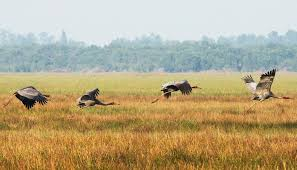seu_dau_do: (240, 68, 295, 111), (148, 77, 204, 105), (71, 87, 120, 111)
